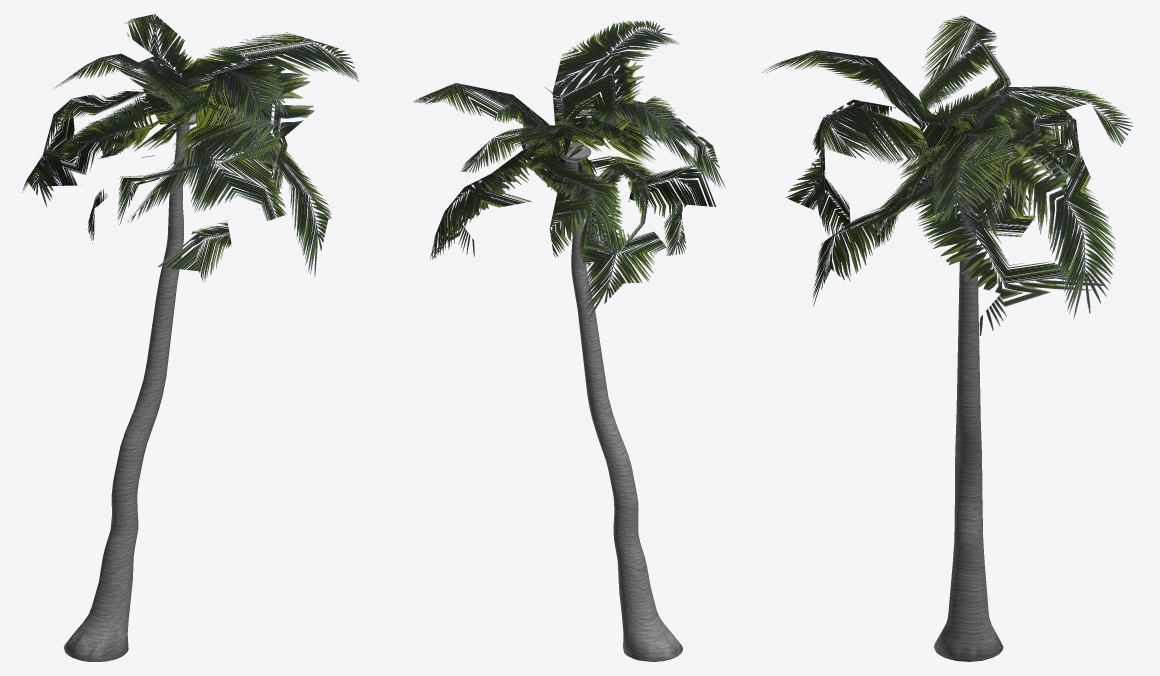
The model's file is royal-palm.med.glb.
3 views of the same model, side by side, from view 1: azimuth 30°, elevation 25°; view 2: azimuth 150°, elevation 25°; view 3: azimuth 270°, elevation 25° (orthographic). The views are drawn at different scales.
Visible parts, largest first — view 1: fronds, trunk; view 2: fronds, trunk; view 3: fronds, trunk.
Part boxes in pixels (x1,y1,x2,y2): fronds: (22, 14, 359, 282); trunk: (63, 113, 196, 661); fronds: (413, 20, 725, 320); trunk: (559, 142, 682, 661); fronds: (761, 15, 1132, 335); trunk: (934, 135, 1003, 661).
Size of the model in its own units: 2.45 by 4.48 by 2.46.
2 materials, 2 textured.
